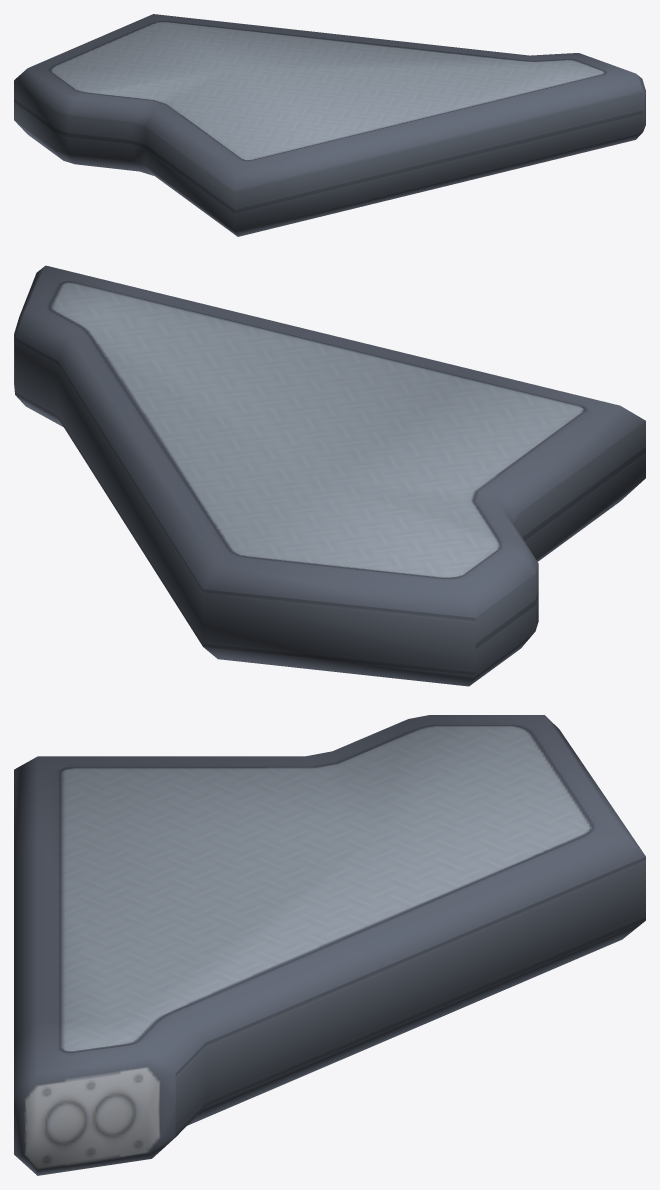
Rendered from Elevator_platform_side_L.fbx.
3 views of the same model, one above another, from view 1: azimuth 30°, elevation 25°; view 2: azimuth 150°, elevation 25°; view 3: azimuth 270°, elevation 25° (orthographic). The views are drawn at different scales.
Visible parts, largest first — view 1: Elevator_platform_side_L; view 2: Elevator_platform_side_L; view 3: Elevator_platform_side_L.
Part boxes in pixels (bbox=[...]): Elevator_platform_side_L: bbox=[14, 14, 645, 236]; Elevator_platform_side_L: bbox=[14, 265, 645, 686]; Elevator_platform_side_L: bbox=[14, 715, 645, 1175].
Size of the model in its own units: 147 by 20 by 107.
1 material, 1 textured.
